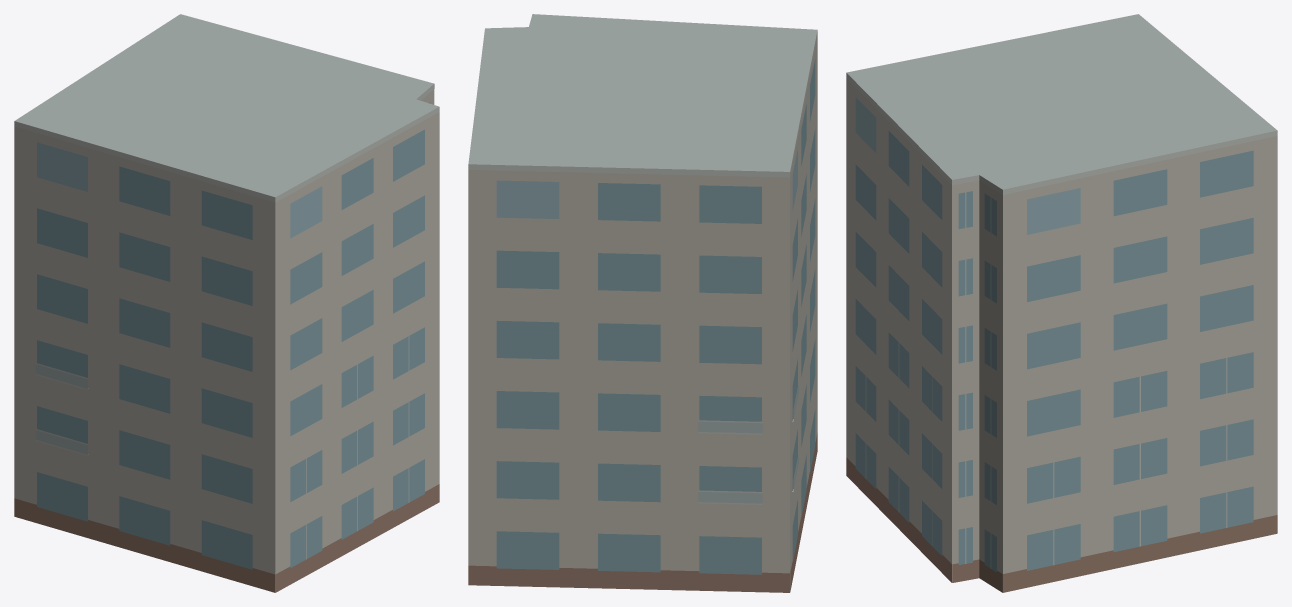
Rendered from survey-upis-32979278.glb.
3 renders of one model, left to right at view 1: azimuth 30°, elevation 25°; view 2: azimuth 150°, elevation 25°; view 3: azimuth 270°, elevation 25°, orthographic. The views are drawn at different scales.
Visible parts, largest first — view 1: survey-upis-32979278.tmp; view 2: survey-upis-32979278.tmp; view 3: survey-upis-32979278.tmp.
Part boxes in pixels (x1=…): survey-upis-32979278.tmp: x1=14, y1=14, x2=439, y2=592; survey-upis-32979278.tmp: x1=468, y1=14, x2=817, y2=592; survey-upis-32979278.tmp: x1=846, y1=14, x2=1277, y2=592.
Size of the model in its own units: 17.12 by 18.3 by 17.75.
